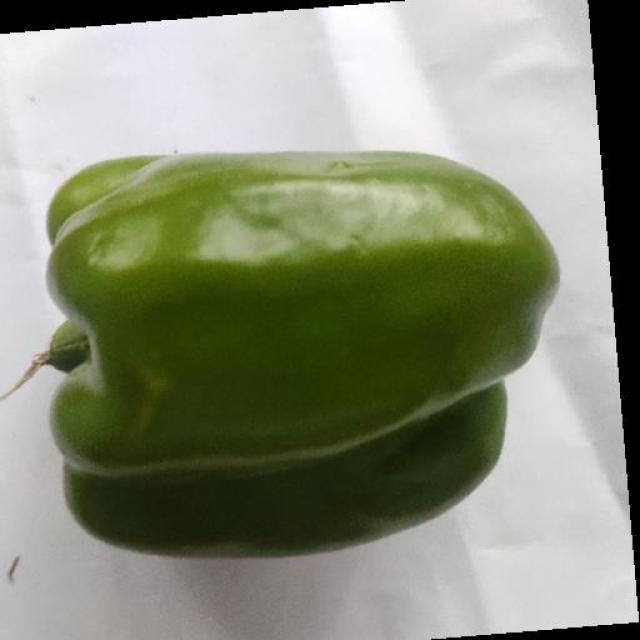Fresh_Capsicum: (54, 132, 542, 546)
